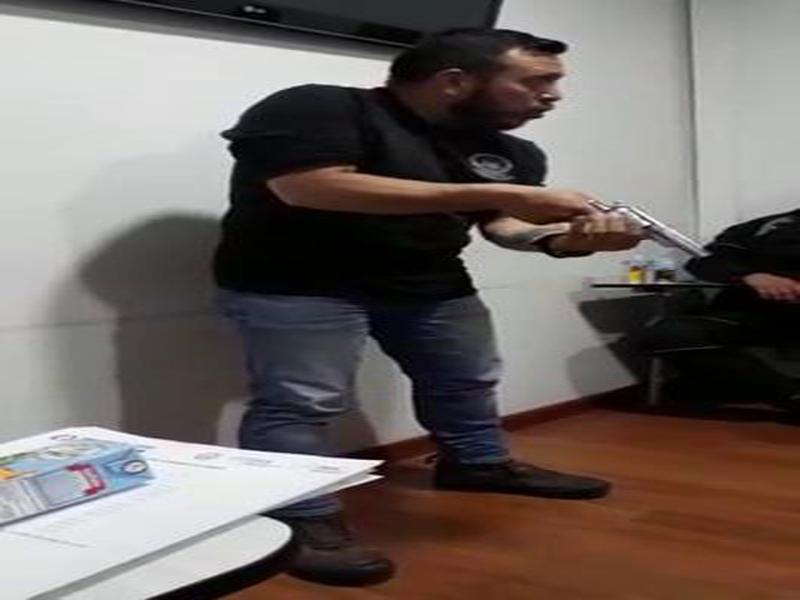Revolver: (557, 172, 722, 297)
